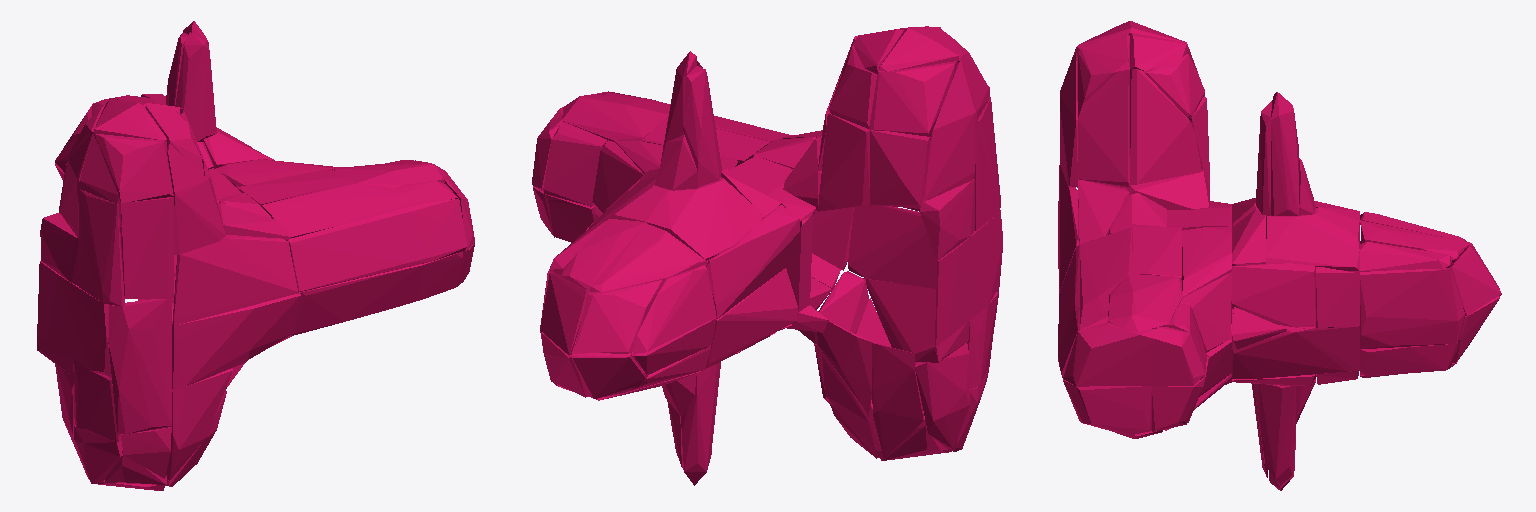
URDF robot description (blob360):
<robot name="blob360">
  <link name="random_obj_360">
    <contact>
      <lateral_friction value="1.0"/>
      <rolling_friction value="0.0"/>
      <inertia_scaling value="3.0"/>
      <contact_cfm value="0.0"/>
      <contact_erp value="1.0"/>
    </contact>
    <inertial>
      <origin rpy="0 0 0" xyz="0 0 0"/>
      <mass value="0.1"/>
      <inertia ixx="1" ixy="0" ixz="0" iyy="1" iyz="0" izz="0"/>
    </inertial>
    <visual>
      <origin rpy="0 0 0" xyz="0 0 0"/>
      <geometry>
        <mesh filename="360.obj" scale="0.015 0.015 0.015"/>
      </geometry>
      <material name="blockmat">
        <color rgba="0.84 0.12 0.43 1"/>
      </material>
    </visual>
    <collision>
      <origin rpy="0 0 0" xyz="0 0 0"/>
      <geometry>
        <mesh filename="360.obj" scale="0.015 0.015 0.015"/>
      </geometry>
    </collision>
  </link>
</robot>

--- What the picture shows (computed from the rendered views, not written in the file) ---
3 views of the same robot in one strip: view 1: azimuth 30°, elevation 25°; view 2: azimuth 150°, elevation 25°; view 3: azimuth 270°, elevation 25° (orthographic).
Robot: blob360 — 1 links, 0 joints (none); root link random_obj_360; default pose: every joint at zero.
Links seen in each view (by area): view 1: random_obj_360; view 2: random_obj_360; view 3: random_obj_360.
Link boxes in pixels (x1,y1,x2,y2): random_obj_360: (37, 21, 474, 490); random_obj_360: (532, 26, 1002, 485); random_obj_360: (1058, 21, 1501, 490).
Bounding box of the posed robot: 0.0922 × 0.0911 × 0.0911 m (x, y, z).
1 mesh visuals loaded from 1 distinct referenced files (1 OBJ).